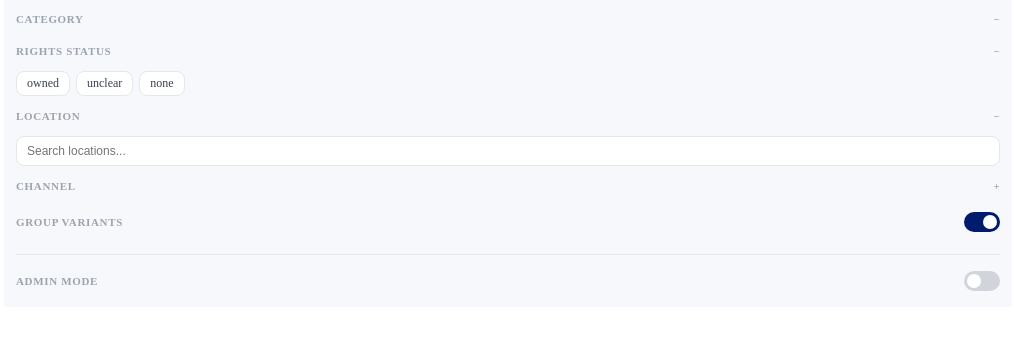
it: FilterSidebar — Channel section › renders a Channel section with two chips when channels=["hero","banner"]
Note: Section starts collapsed — click to open
Click the text "Channel" at (46, 186), box [16,180,76,192]
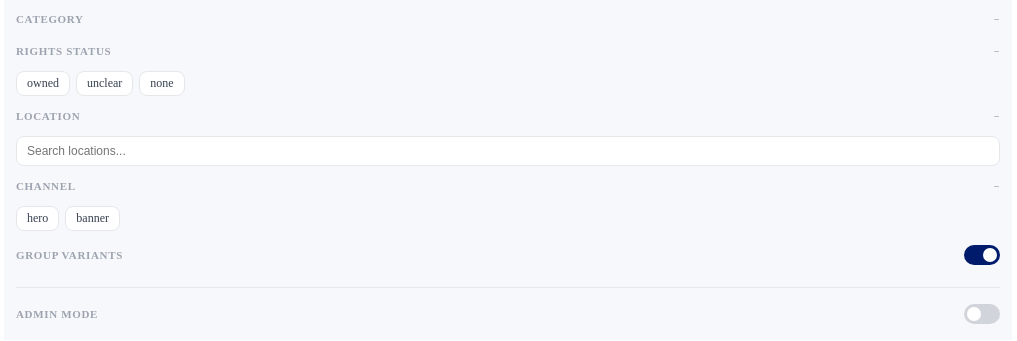
Check: the text "hero" is shown, box [16,206,59,231]
Check: the text "banner" is shown, box [65,206,120,231]
